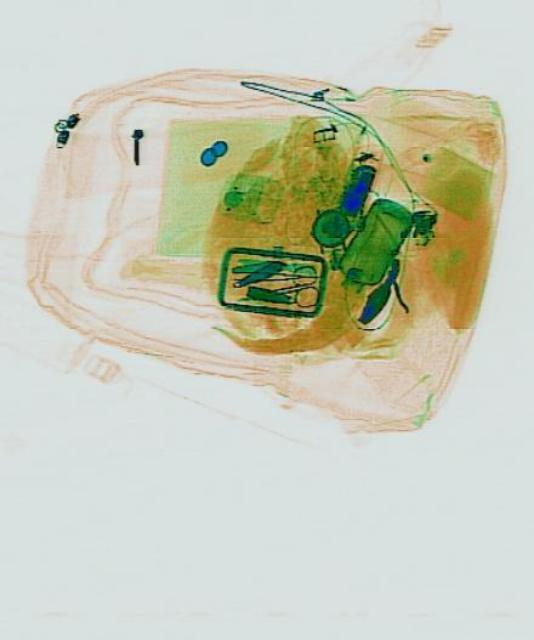Scissors: (252, 262, 318, 316)
